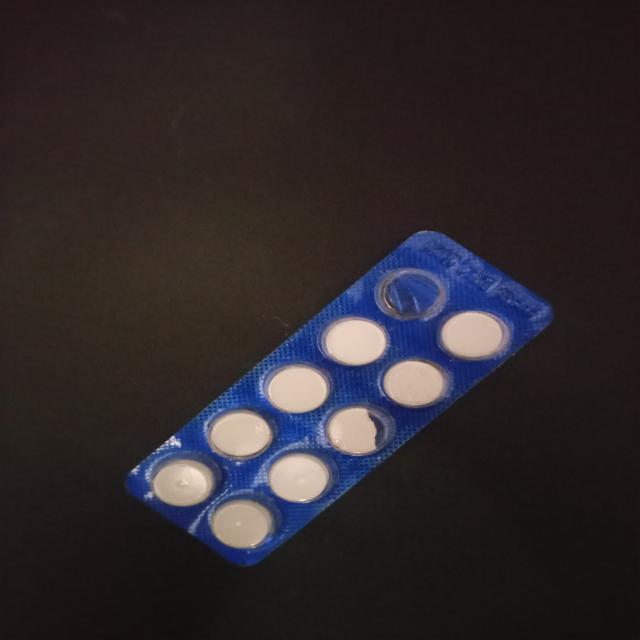defect: (372, 265, 449, 323), (322, 403, 397, 458)
